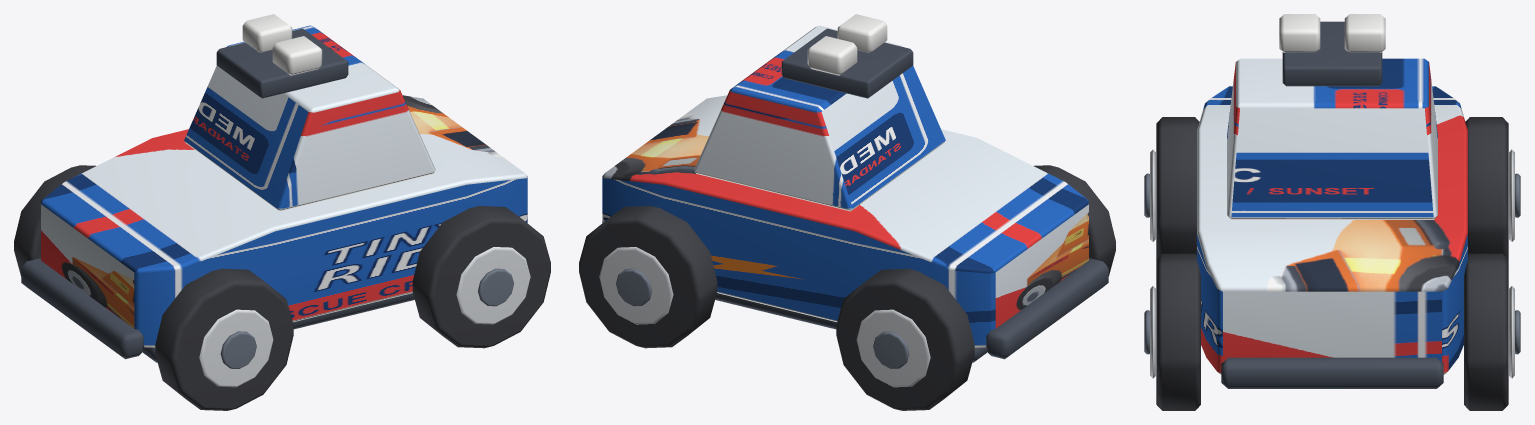
3 renders of one model, left to right at view 1: azimuth 30°, elevation 25°; view 2: azimuth 150°, elevation 25°; view 3: azimuth 270°, elevation 25°, orthographic. The views are drawn at different scales.
Parts seen in each view (by area): view 1: RC-02_connected_shell, RC-02_cabin, Tire, Tire.002, front bumper, beacon mount, Rim, Rim.002, Tire.001, beacon lens, beacon lens.001, underbody (+2 smaller); view 2: RC-02_connected_shell, RC-02_cabin, Tire.001, Tire.003, front bumper, beacon mount, Rim.001, Rim.003, Tire, beacon lens.001, beacon lens, underbody (+2 smaller); view 3: RC-02_connected_shell, RC-02_cabin, rear bumper, Tire.002, Tire.003, Tire, Tire.001, beacon mount, beacon lens, beacon lens.001, Rim.002, Rim.003 (+2 smaller).
Part boxes in pixels (left/top/right/bottom): RC-02_connected_shell: left=41, top=95, right=527, bottom=347; RC-02_cabin: left=184, top=25, right=435, bottom=211; Tire: left=155, top=268, right=293, bottom=410; Tire.002: left=412, top=206, right=550, bottom=348; front bumper: left=21, top=258, right=144, bottom=359; beacon mount: left=216, top=28, right=348, bottom=98; Rim: left=199, top=309, right=273, bottom=387; Rim.002: left=456, top=247, right=530, bottom=324; Tire.001: left=14, top=165, right=95, bottom=276; beacon lens: left=272, top=36, right=322, bottom=75; beacon lens.001: left=242, top=14, right=292, bottom=52; underbody: left=142, top=293, right=414, bottom=362; RC-02_connected_shell: left=602, top=95, right=1088, bottom=347; RC-02_cabin: left=694, top=25, right=945, bottom=211; Tire.001: left=836, top=268, right=974, bottom=410; Tire.003: left=579, top=206, right=717, bottom=348; front bumper: left=985, top=258, right=1108, bottom=359; beacon mount: left=781, top=28, right=913, bottom=98; Rim.001: left=856, top=309, right=930, bottom=387; Rim.003: left=599, top=247, right=673, bottom=324; Tire: left=1034, top=165, right=1115, bottom=276; beacon lens.001: left=807, top=36, right=857, bottom=75; beacon lens: left=837, top=14, right=887, bottom=52; underbody: left=715, top=293, right=987, bottom=362; RC-02_connected_shell: left=1197, top=86, right=1467, bottom=374; RC-02_cabin: left=1227, top=58, right=1437, bottom=219; rear bumper: left=1221, top=357, right=1443, bottom=388; Tire.002: left=1156, top=253, right=1200, bottom=410; Tire.003: left=1464, top=253, right=1508, bottom=410; Tire: left=1156, top=117, right=1199, bottom=259; Tire.001: left=1465, top=117, right=1508, bottom=259; beacon mount: left=1282, top=21, right=1382, bottom=86; beacon lens: left=1279, top=14, right=1320, bottom=52; beacon lens.001: left=1344, top=14, right=1385, bottom=52; Rim.002: left=1150, top=286, right=1155, bottom=378; Rim.003: left=1509, top=286, right=1514, bottom=378.
Bounding box in the file's own units: 308 × 201 × 219.
